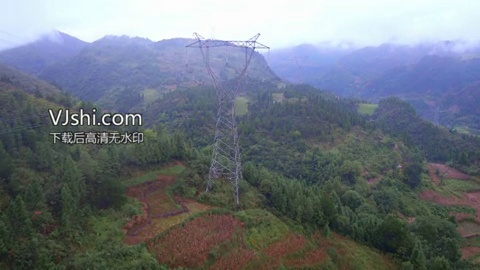tower_body: (182, 29, 273, 206)
tower_foot: (206, 164, 246, 202)
tower_head: (184, 31, 270, 99)
